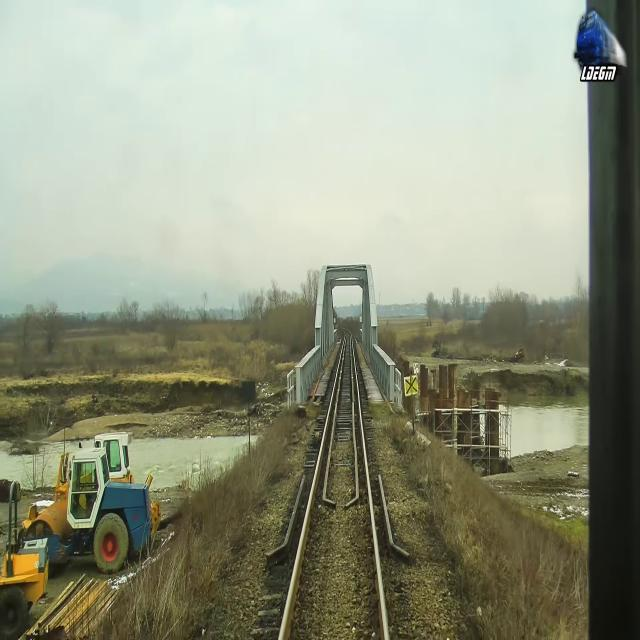rail-track: (283, 332, 383, 639)
